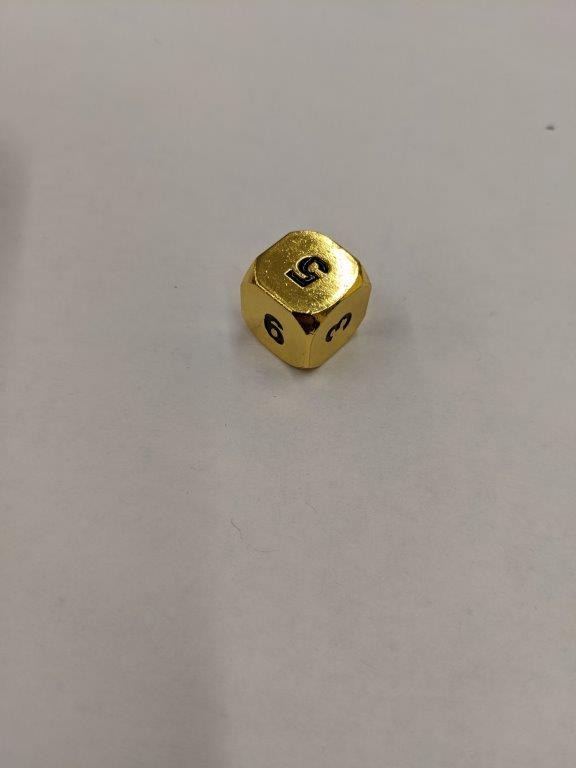d6-5: (238, 229, 374, 370)
